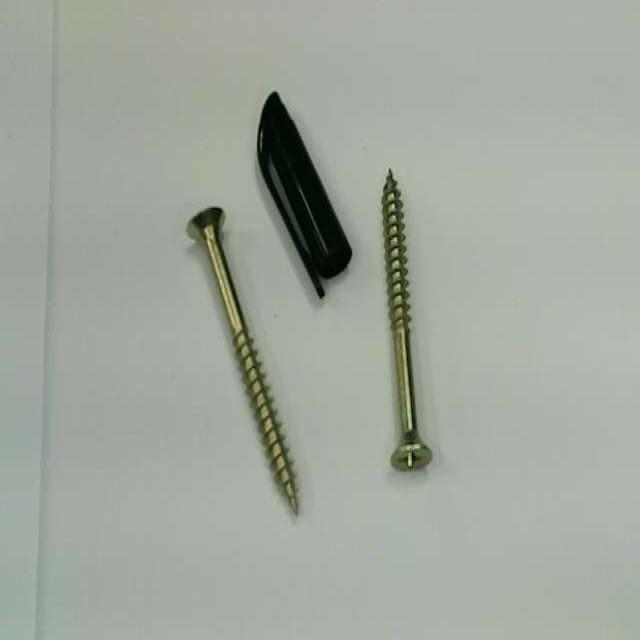Parafuso: (188, 208, 297, 514), (381, 170, 430, 470)
